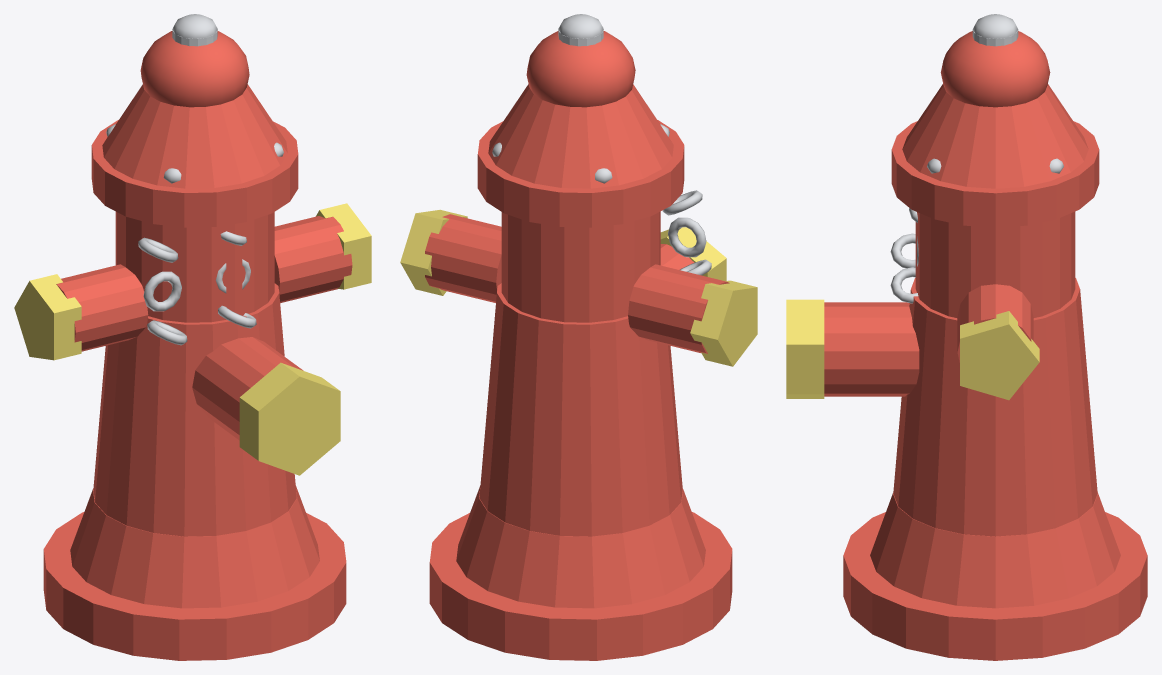
Rendered from prop_fire_hydrant.glb.
3 views of the same model, side by side, from view 1: azimuth 30°, elevation 25°; view 2: azimuth 150°, elevation 25°; view 3: azimuth 270°, elevation 25° (orthographic).
Parts seen in each view (by area): view 1: prop_fire_hydrant_barrel_lower, prop_fire_hydrant_ground_flange, prop_fire_hydrant_flange_cone, prop_fire_hydrant_bonnet, prop_fire_hydrant_barrel_upper, prop_fire_hydrant_bonnet_flange, prop_fire_hydrant_pumper_cap, prop_fire_hydrant_dome, prop_fire_hydrant_nozzle_l, prop_fire_hydrant_nozzle_r, prop_fire_hydrant_pumper, prop_fire_hydrant_nozzle_cap_l (+5 smaller); view 2: prop_fire_hydrant_barrel_lower, prop_fire_hydrant_ground_flange, prop_fire_hydrant_flange_cone, prop_fire_hydrant_barrel_upper, prop_fire_hydrant_bonnet, prop_fire_hydrant_bonnet_flange, prop_fire_hydrant_dome, prop_fire_hydrant_nozzle_l, prop_fire_hydrant_nozzle_r, prop_fire_hydrant_nozzle_cap_l, prop_fire_hydrant_nozzle_cap_r, prop_fire_hydrant_pumper_cap (+3 smaller); view 3: prop_fire_hydrant_barrel_lower, prop_fire_hydrant_ground_flange, prop_fire_hydrant_flange_cone, prop_fire_hydrant_bonnet, prop_fire_hydrant_barrel_upper, prop_fire_hydrant_bonnet_flange, prop_fire_hydrant_pumper, prop_fire_hydrant_dome, prop_fire_hydrant_nozzle_cap_r, prop_fire_hydrant_pumper_cap, prop_fire_hydrant_nozzle_r, prop_fire_hydrant_nut_cap (+2 smaller).
Part boxes in pixels (x1,y1,x2,y2): prop_fire_hydrant_barrel_lower: [93, 283, 296, 536]; prop_fire_hydrant_ground_flange: [43, 512, 346, 660]; prop_fire_hydrant_flange_cone: [70, 485, 319, 608]; prop_fire_hydrant_bonnet: [102, 84, 287, 188]; prop_fire_hydrant_barrel_upper: [115, 211, 274, 322]; prop_fire_hydrant_bonnet_flange: [91, 120, 298, 227]; prop_fire_hydrant_pumper_cap: [239, 362, 340, 475]; prop_fire_hydrant_dome: [140, 31, 249, 107]; prop_fire_hydrant_nozzle_l: [56, 264, 148, 351]; prop_fire_hydrant_nozzle_r: [274, 216, 352, 302]; prop_fire_hydrant_pumper: [192, 337, 303, 440]; prop_fire_hydrant_nozzle_cap_l: [14, 274, 81, 360]; prop_fire_hydrant_barrel_lower: [479, 283, 682, 536]; prop_fire_hydrant_ground_flange: [429, 512, 732, 660]; prop_fire_hydrant_flange_cone: [456, 485, 705, 608]; prop_fire_hydrant_barrel_upper: [501, 211, 660, 322]; prop_fire_hydrant_bonnet: [488, 84, 673, 188]; prop_fire_hydrant_bonnet_flange: [477, 120, 684, 227]; prop_fire_hydrant_dome: [526, 31, 635, 107]; prop_fire_hydrant_nozzle_l: [628, 264, 729, 353]; prop_fire_hydrant_nozzle_r: [425, 214, 501, 302]; prop_fire_hydrant_nozzle_cap_l: [690, 280, 757, 366]; prop_fire_hydrant_nozzle_cap_r: [400, 209, 467, 295]; prop_fire_hydrant_pumper_cap: [660, 227, 726, 280]; prop_fire_hydrant_barrel_lower: [893, 278, 1097, 536]; prop_fire_hydrant_ground_flange: [843, 512, 1147, 660]; prop_fire_hydrant_flange_cone: [870, 492, 1120, 608]; prop_fire_hydrant_bonnet: [902, 84, 1088, 188]; prop_fire_hydrant_barrel_upper: [915, 211, 1075, 317]; prop_fire_hydrant_bonnet_flange: [891, 121, 1099, 227]; prop_fire_hydrant_pumper: [824, 302, 919, 396]; prop_fire_hydrant_dome: [940, 31, 1050, 107]; prop_fire_hydrant_nozzle_cap_r: [960, 311, 1039, 400]; prop_fire_hydrant_pumper_cap: [786, 299, 824, 398]; prop_fire_hydrant_nozzle_r: [957, 284, 1033, 362]; prop_fire_hydrant_nut_cap: [973, 14, 1017, 38].
Bounding box in the file's own units: 0.482 × 0.8409 × 0.475.
